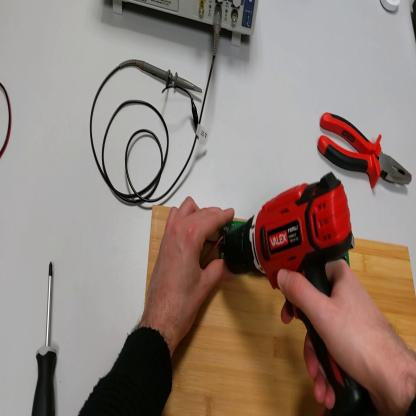electric screwdriver: (226, 165, 380, 414)
hand: (277, 257, 403, 414), (146, 198, 235, 342)
high voltage board: (202, 219, 356, 269)
oscilloscope: (107, 2, 260, 49)
oscilloscope probe tip: (139, 57, 204, 94)
pliers: (315, 113, 414, 194)
screwdriver-: (33, 262, 61, 415)
working area: (144, 204, 416, 416)
